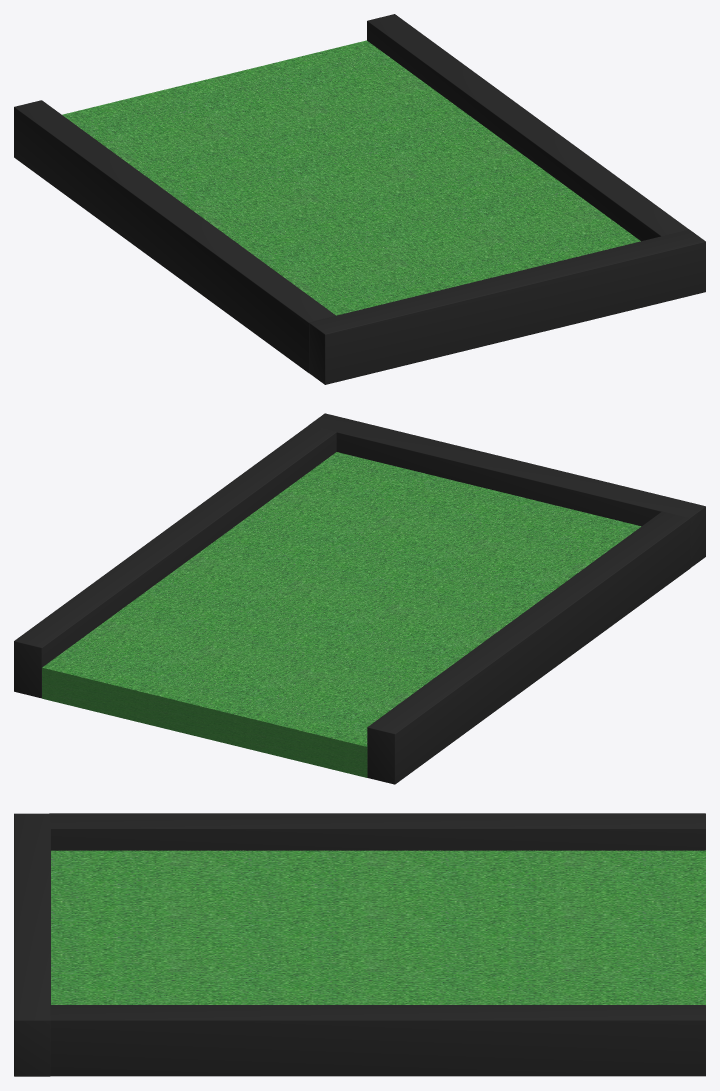
Rendered from StartSec.fbx.
3 renders of one model, top to bottom at view 1: azimuth 30°, elevation 25°; view 2: azimuth 150°, elevation 25°; view 3: azimuth 270°, elevation 25°, orthographic. The views are drawn at different scales.
Visible parts, largest first — view 1: Floor, Back, L_Wall, R_Wall; view 2: Floor, L_Wall, R_Wall, Back; view 3: Floor, R_Wall, L_Wall, Back.
Part boxes in pixels (box(x1,y1,x2,y2)): Floor: box(62, 40, 640, 315); Back: box(309, 229, 705, 384); L_Wall: box(14, 100, 335, 372); R_Wall: box(367, 14, 688, 241); Floor: box(42, 452, 641, 777); L_Wall: box(367, 511, 690, 784); R_Wall: box(14, 425, 336, 698); Back: box(309, 413, 705, 567); Floor: box(51, 850, 705, 1004); R_Wall: box(50, 1005, 705, 1076); L_Wall: box(49, 813, 705, 850); Back: box(14, 813, 50, 1076).
Bounding box in the file's own units: 149 × 19.01 × 211.
Materials: 2 (1 with a texture image).
